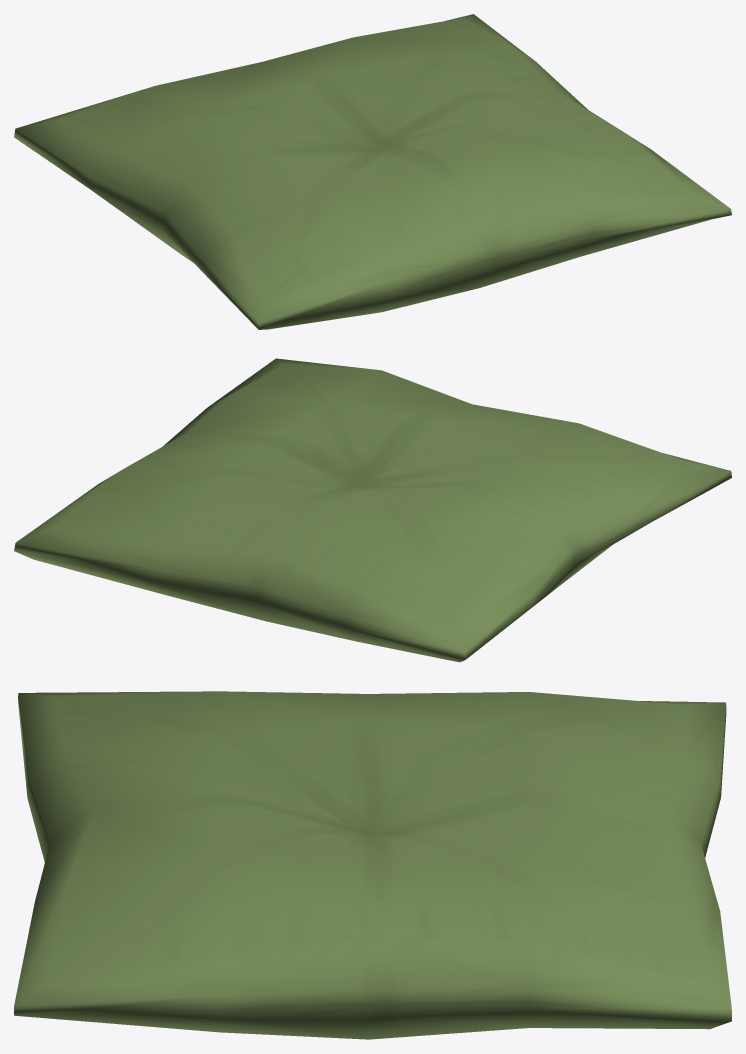
The model's file is Cushion01.fbx.
3 views of the same model, one above another, from view 1: azimuth 30°, elevation 25°; view 2: azimuth 150°, elevation 25°; view 3: azimuth 270°, elevation 25° (orthographic). The views are drawn at different scales.
Visible parts, largest first — view 1: Cushion01; view 2: Cushion01; view 3: Cushion01.
Part boxes in pixels (x1,y1,x2,y2): Cushion01: (14, 14, 731, 329); Cushion01: (14, 358, 731, 662); Cushion01: (14, 691, 731, 1039).
Size of the model in its own units: 69.31 by 12 by 66.06.
